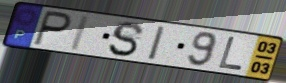9: (186, 31, 219, 68)
I: (67, 14, 93, 53), (146, 24, 168, 62)
L: (216, 35, 245, 72)
P: (31, 9, 74, 48)
S: (106, 20, 146, 59)
